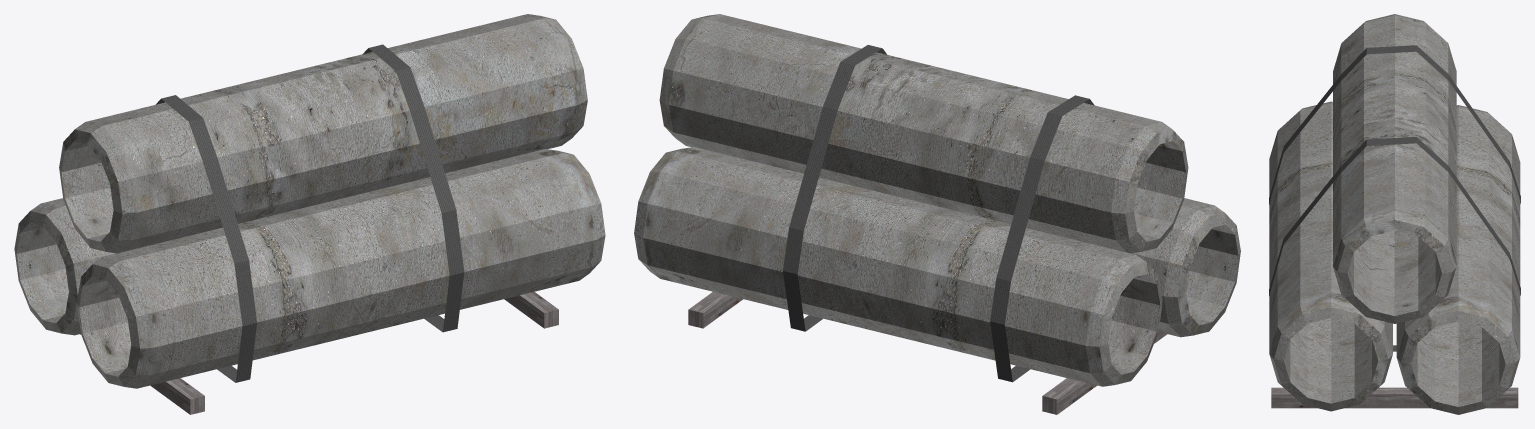
3 views of the same model, side by side, from view 1: azimuth 30°, elevation 25°; view 2: azimuth 150°, elevation 25°; view 3: azimuth 270°, elevation 25° (orthographic). The views are drawn at different scales.
Parts seen in each view (by area): view 1: tube4_Layer1; view 2: tube4_Layer1; view 3: tube4_Layer1.
Boxes of the visible parts, x1,y1,x2,y2 form: tube4_Layer1: (14,14,605,414); tube4_Layer1: (634,14,1240,414); tube4_Layer1: (1269,14,1520,414).
Bounding box in the file's own units: 133 × 63.6 × 65.25.
Materials: 1 (1 with a texture image).
